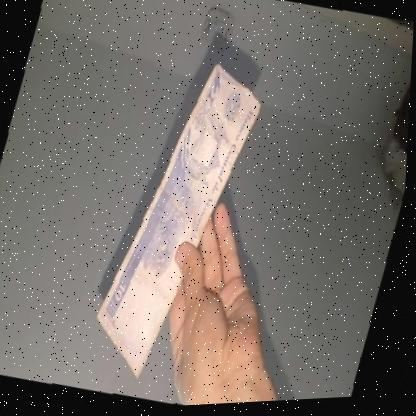ten-back-vef: (83, 53, 270, 396)
